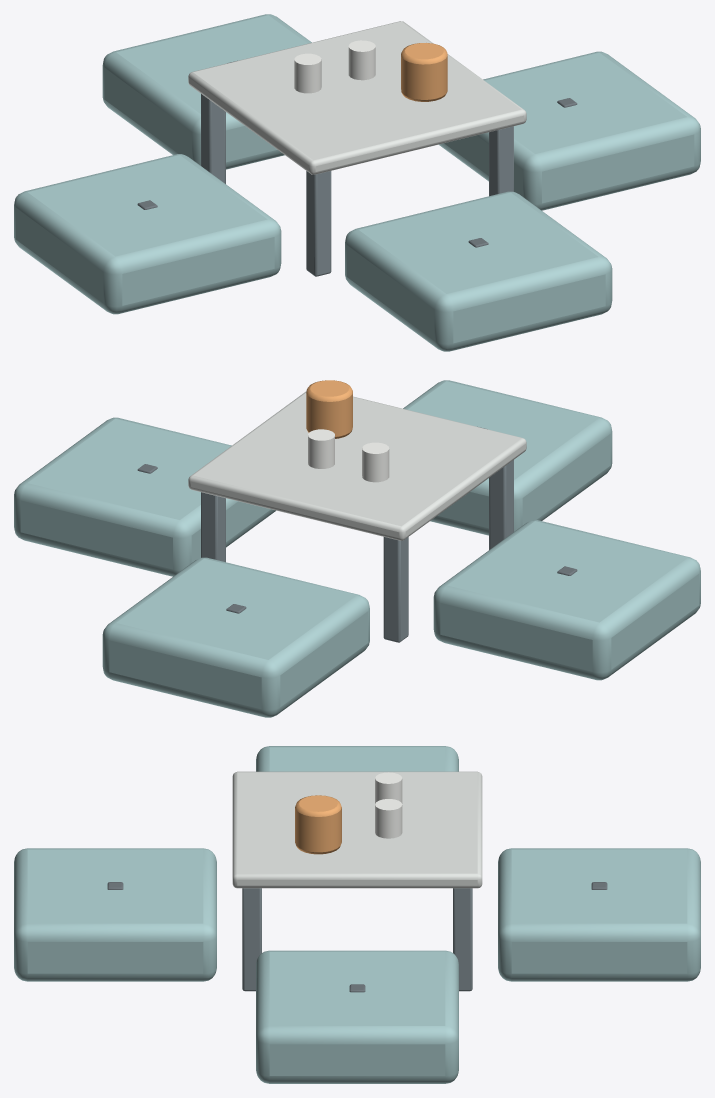
Rendered from floor_cushions.glb.
3 views of the same model, one above another, from view 1: azimuth 30°, elevation 25°; view 2: azimuth 150°, elevation 25°; view 3: azimuth 270°, elevation 25° (orthographic).
Parts seen in each view (by area): view 1: cushion_3_teal_soft, cushion_0_teal_soft, table_top_warm_panel, cushion_1_teal_soft, cushion_2_teal_soft, table_legs_dark_alloy, teapot_orange, cups_white_painted; view 2: cushion_3_teal_soft, cushion_2_teal_soft, table_top_warm_panel, cushion_1_teal_soft, cushion_0_teal_soft, table_legs_dark_alloy, teapot_orange, cups_white_painted; view 3: cushion_1_teal_soft, cushion_0_teal_soft, cushion_2_teal_soft, table_top_warm_panel, cushion_3_teal_soft, table_legs_dark_alloy, teapot_orange, cups_white_painted.
Boxes of the visible parts, bbox=[...] form: cushion_3_teal_soft: bbox=[14, 154, 281, 314]; cushion_0_teal_soft: bbox=[345, 191, 612, 351]; table_top_warm_panel: bbox=[188, 21, 526, 174]; cushion_1_teal_soft: bbox=[439, 51, 700, 210]; cushion_2_teal_soft: bbox=[102, 14, 311, 169]; table_legs_dark_alloy: bbox=[201, 94, 513, 276]; teapot_orange: bbox=[401, 43, 447, 101]; cups_white_painted: bbox=[294, 40, 375, 93]; cushion_3_teal_soft: bbox=[433, 520, 700, 680]; cushion_2_teal_soft: bbox=[102, 557, 369, 717]; table_top_warm_panel: bbox=[188, 391, 526, 540]; cushion_1_teal_soft: bbox=[14, 417, 275, 576]; cushion_0_teal_soft: bbox=[403, 380, 612, 535]; table_legs_dark_alloy: bbox=[201, 460, 513, 642]; teapot_orange: bbox=[306, 380, 352, 438]; cups_white_painted: bbox=[308, 429, 389, 482]; cushion_1_teal_soft: bbox=[256, 950, 458, 1083]; cushion_0_teal_soft: bbox=[14, 848, 216, 981]; cushion_2_teal_soft: bbox=[498, 848, 700, 981]; table_top_warm_panel: bbox=[232, 771, 482, 888]; cushion_3_teal_soft: bbox=[256, 746, 458, 771]; table_legs_dark_alloy: bbox=[242, 888, 472, 991]; teapot_orange: bbox=[295, 795, 341, 854]; cups_white_painted: bbox=[375, 772, 402, 838].
Bounding box in the file's own units: 1.76 × 0.46 × 1.76.
